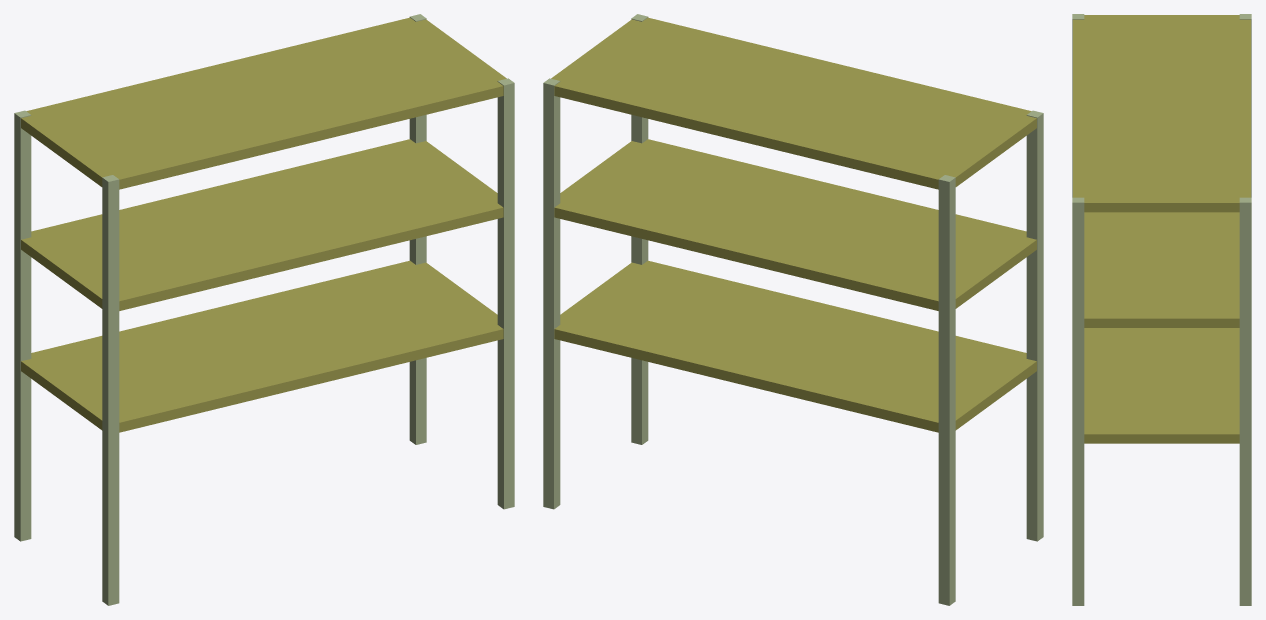
Rendered from shelf.dae.
The picture shows the model from 3 angles, left to right: view 1: azimuth 30°, elevation 25°; view 2: azimuth 150°, elevation 25°; view 3: azimuth 270°, elevation 25°; orthographic projection. The views are drawn at different scales.
Parts seen in each view (by area): view 1: Plate1, Plate2, Plate3, Pole3, Pole2, Pole4, Pole1; view 2: Plate1, Plate2, Plate3, Pole4, Pole1, Pole3, Pole2; view 3: Plate1, Plate2, Plate3, Pole2, Pole1.
Part boxes in pixels (x1,y1,x2,y2): Plate1: (21,17,506,189); Plate2: (21,139,503,310); Plate3: (21,260,503,432); Pole3: (102,175,119,605); Pole2: (497,78,514,509); Pole4: (14,110,31,541); Pole1: (409,14,426,444); Plate1: (551,17,1036,189); Plate2: (554,139,1036,310); Plate3: (554,260,1036,432); Pole4: (938,175,955,605); Pole1: (543,78,560,509); Pole3: (1026,110,1043,541); Pole2: (631,14,648,444); Plate1: (1073,15,1250,212); Plate2: (1084,212,1239,327); Plate3: (1084,328,1239,443); Pole2: (1072,197,1084,605); Pole1: (1239,197,1251,605).
Bounding box in the file's own units: 1.5 × 0.604 × 1.5.
